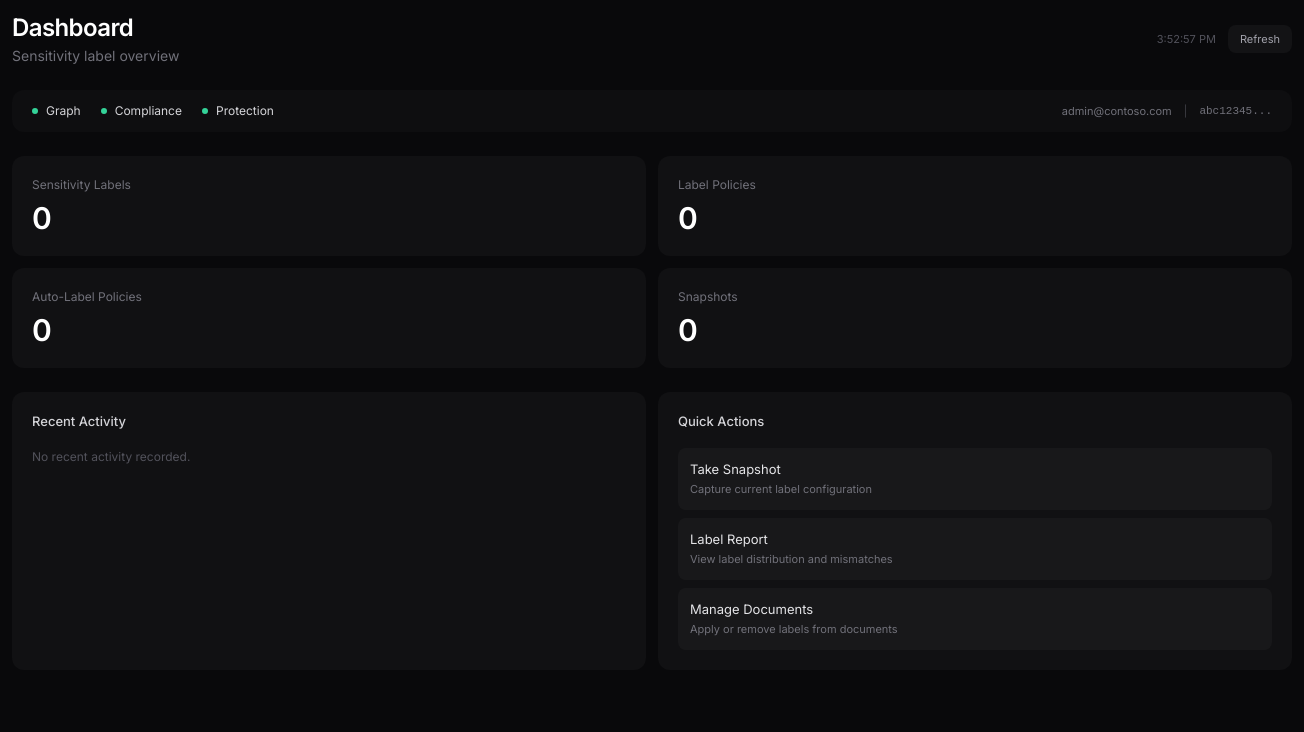
Test: DashboardPage › shows snapshot failure result
Click the text "Take Snapshot" at (735, 469), box x1=690 y1=460 x2=781 y2=479
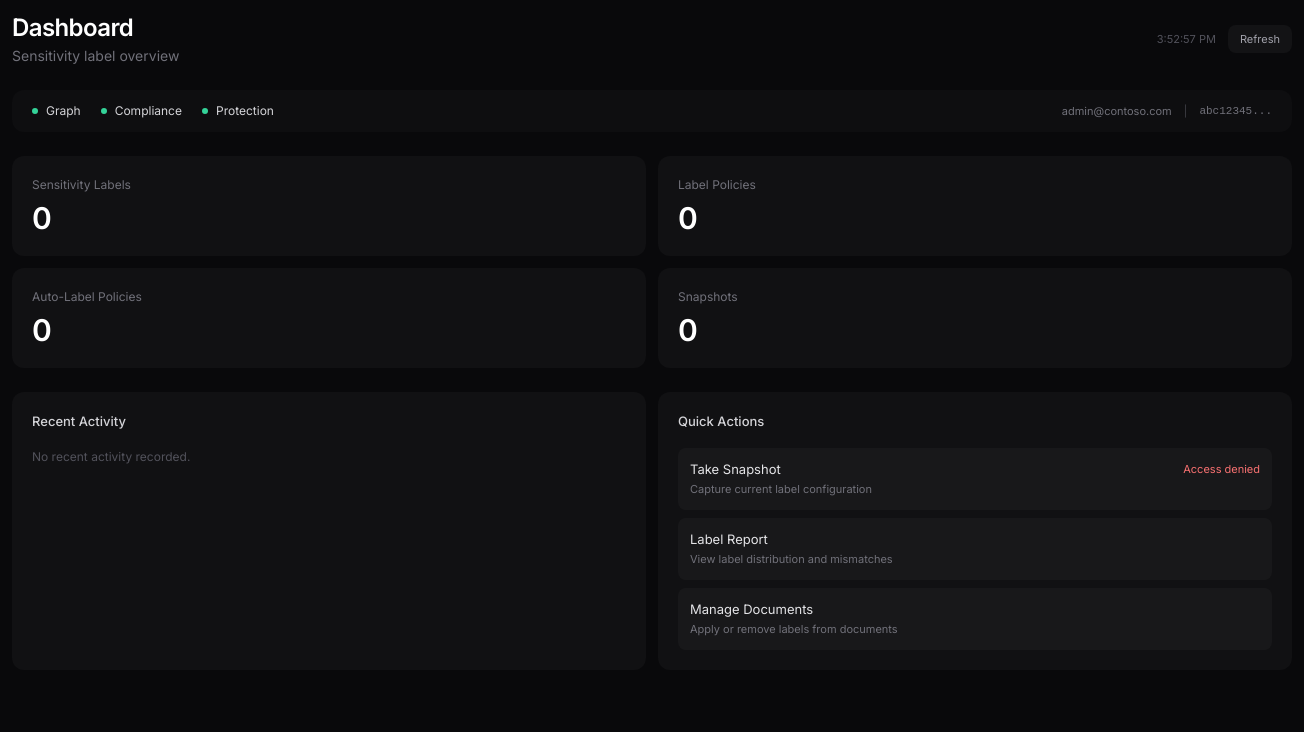
Check: the text "Access denied" is shown, box x1=1183 y1=461 x2=1260 y2=478
